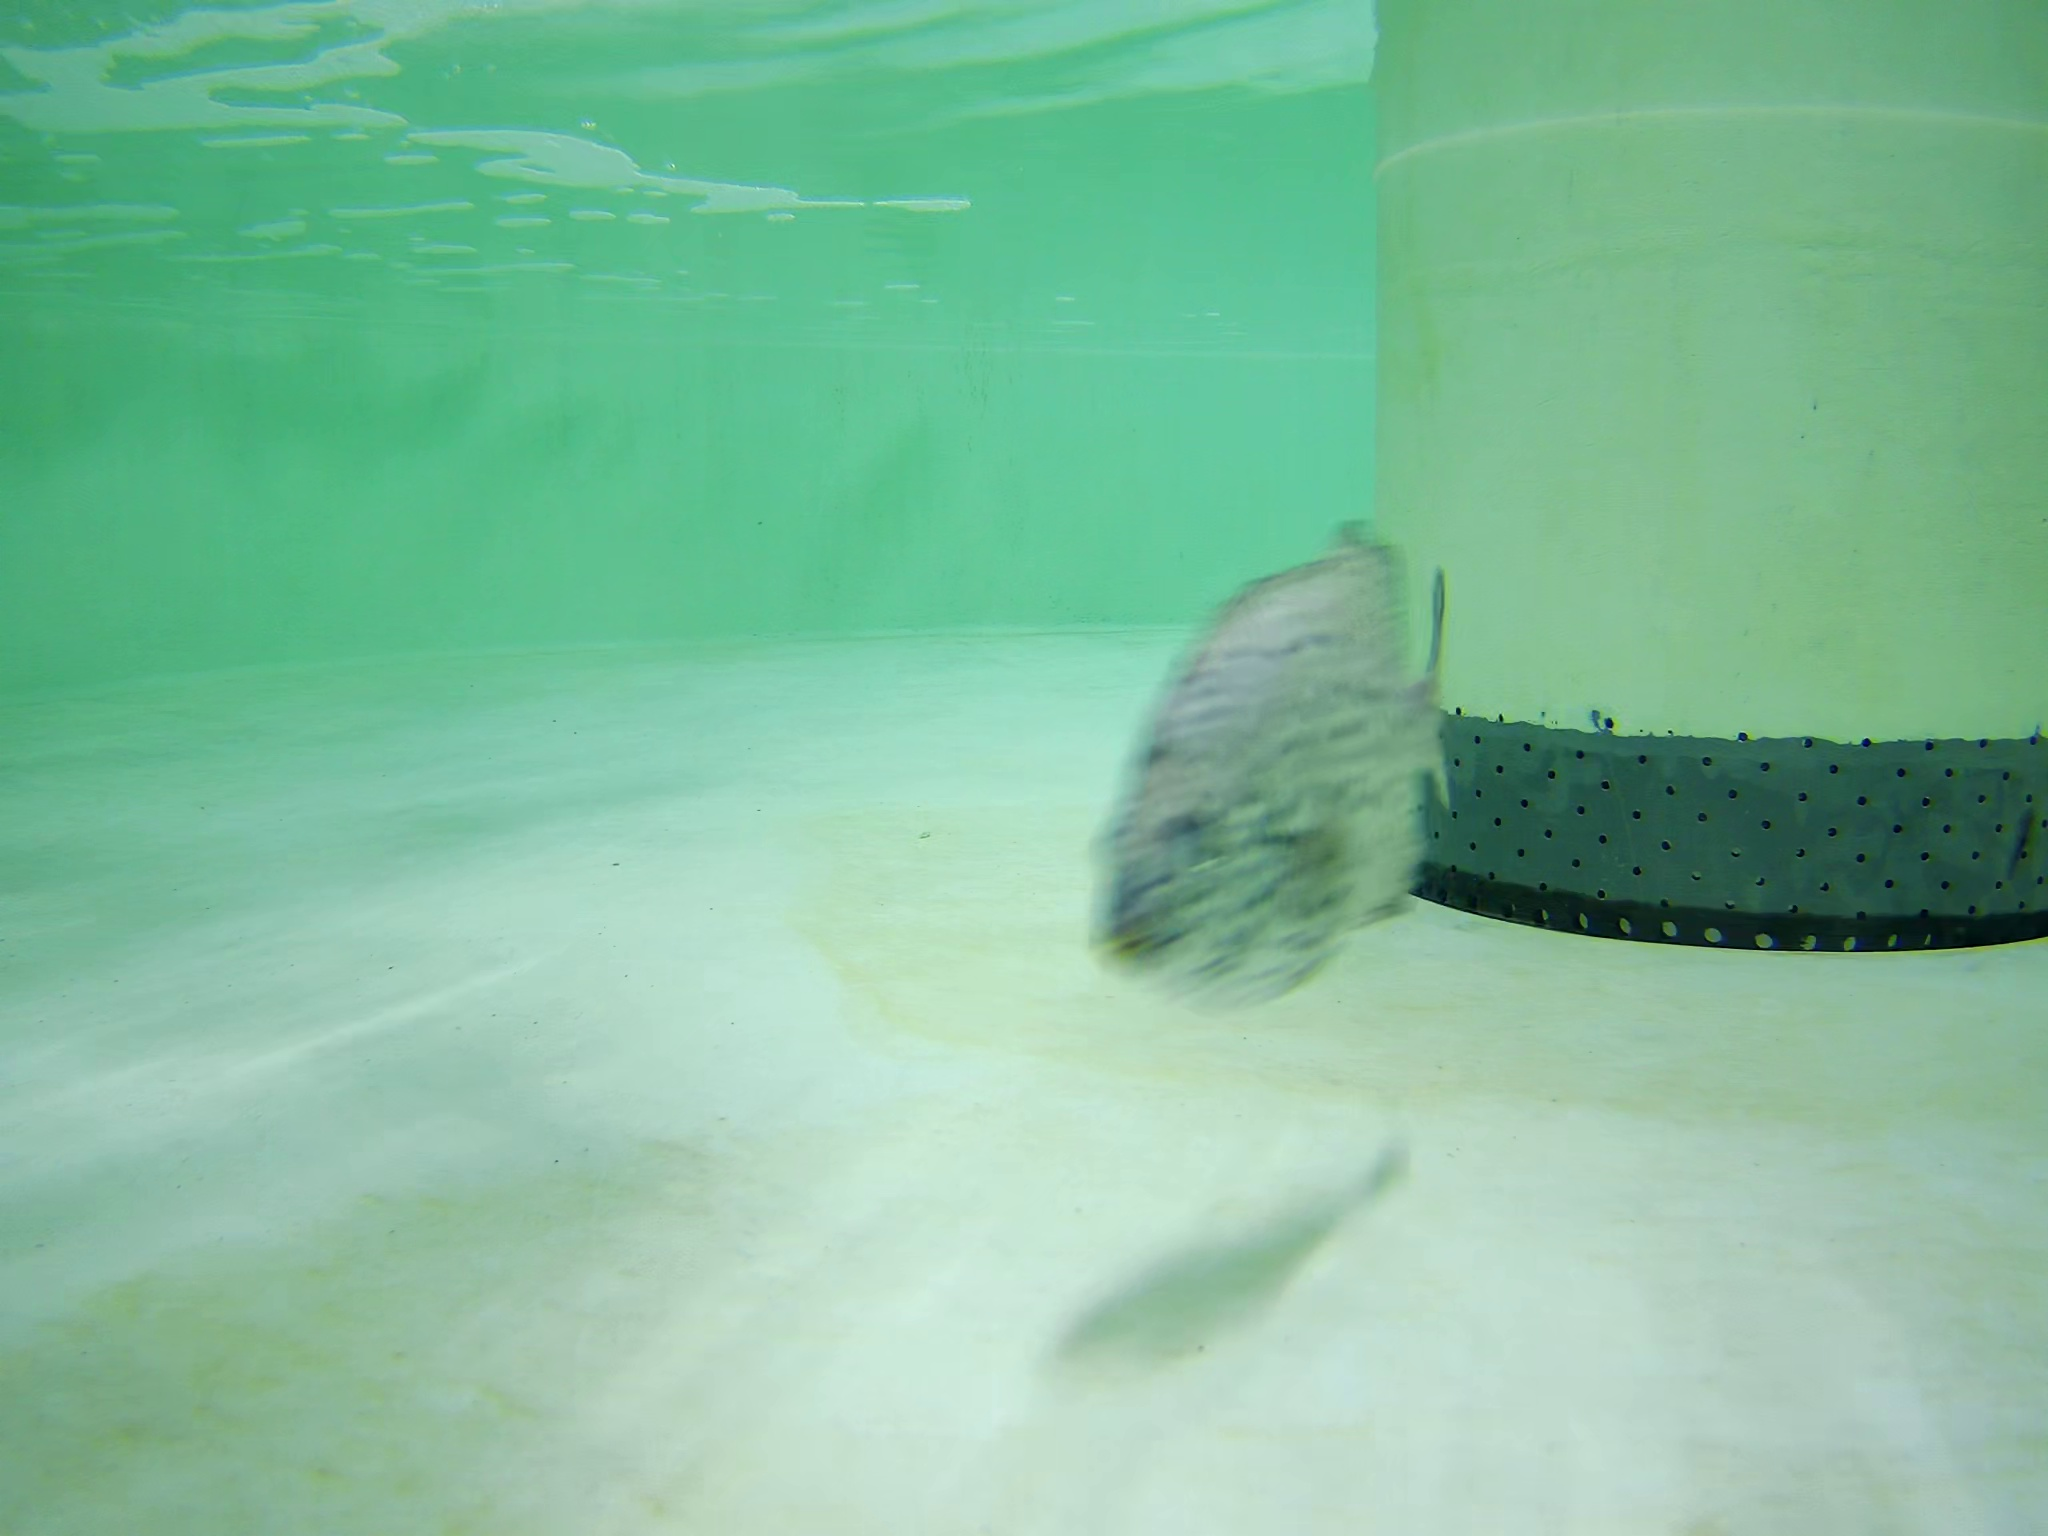fish: (1092, 534, 1445, 1016)
